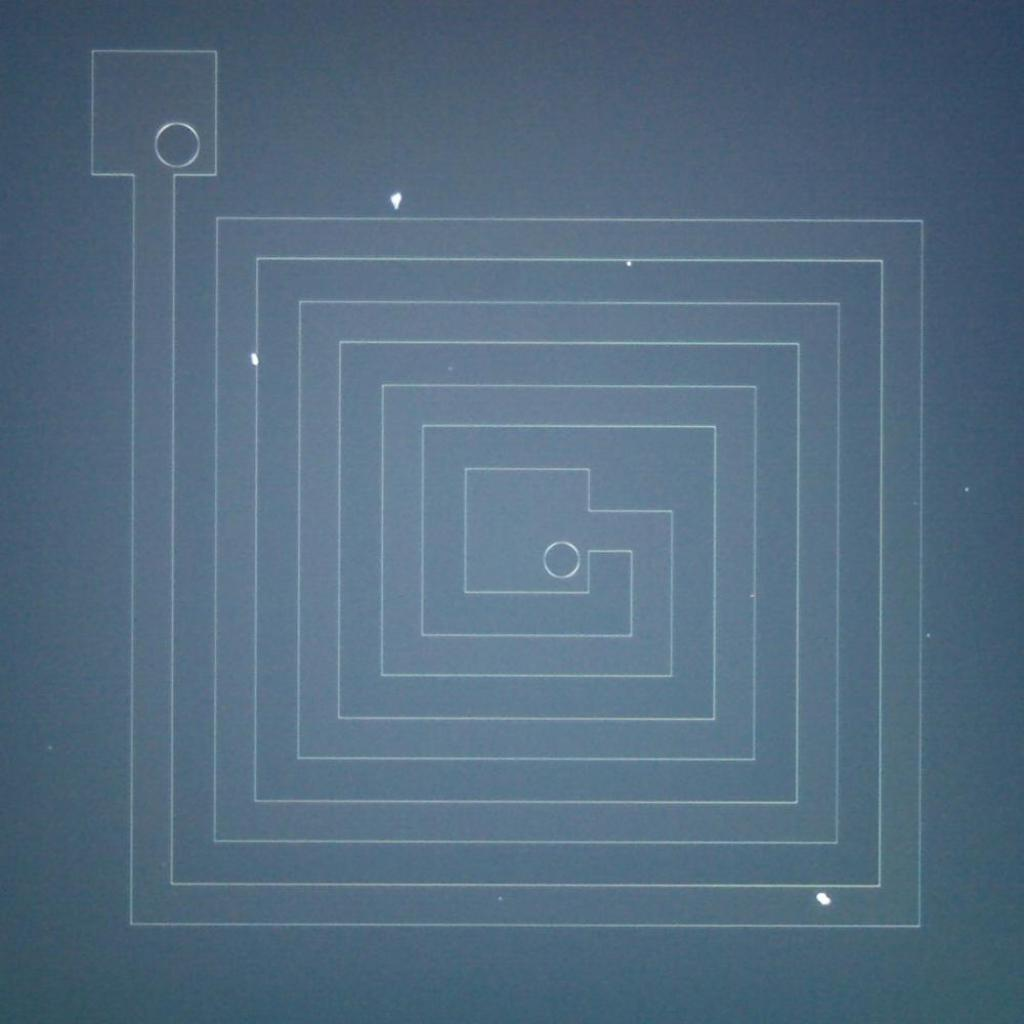dot: (816, 891, 831, 907), (389, 194, 404, 208), (249, 353, 260, 365), (498, 896, 504, 902), (964, 487, 970, 493), (626, 261, 631, 266)
